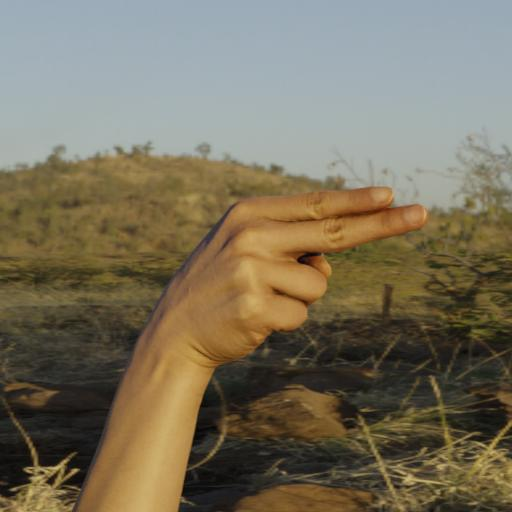H: (127, 172, 440, 401)
